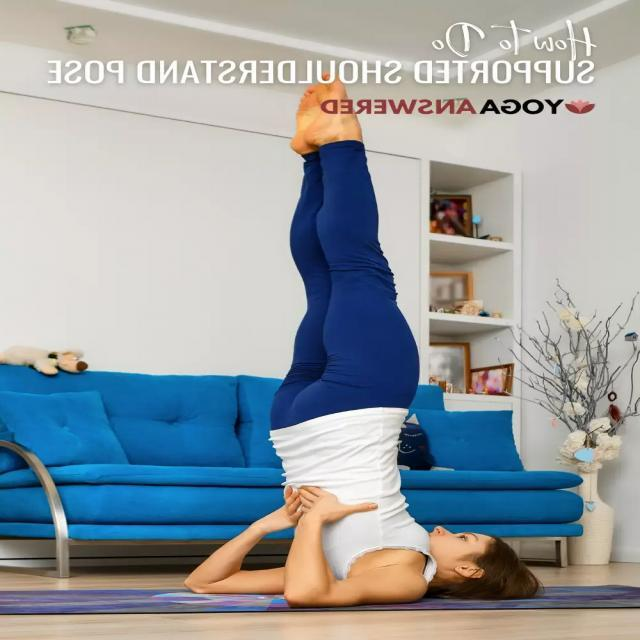yoga-pose downward: (171, 80, 506, 610)
